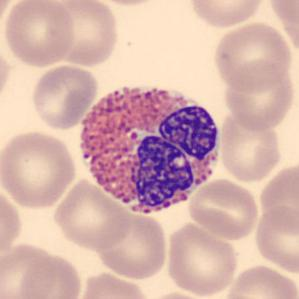Eosinophil: (69, 72, 230, 226)
RBC: (0, 128, 79, 211), (50, 177, 133, 252), (210, 20, 294, 93), (164, 221, 240, 297), (93, 210, 170, 281), (222, 62, 297, 134), (1, 0, 76, 68), (28, 62, 100, 131), (217, 111, 284, 185), (50, 0, 121, 68), (186, 177, 261, 241), (251, 202, 299, 275), (0, 240, 59, 299), (255, 159, 299, 237), (220, 262, 299, 299), (185, 0, 268, 29), (74, 270, 151, 299), (0, 182, 24, 267), (264, 0, 299, 58), (0, 43, 13, 109), (0, 0, 23, 34), (138, 289, 210, 299), (88, 0, 167, 7)
